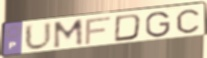C: (175, 8, 201, 35)
D: (113, 13, 144, 43)
F: (83, 15, 113, 47)
G: (144, 10, 172, 38)
M: (52, 17, 85, 50)
U: (24, 21, 54, 52)
